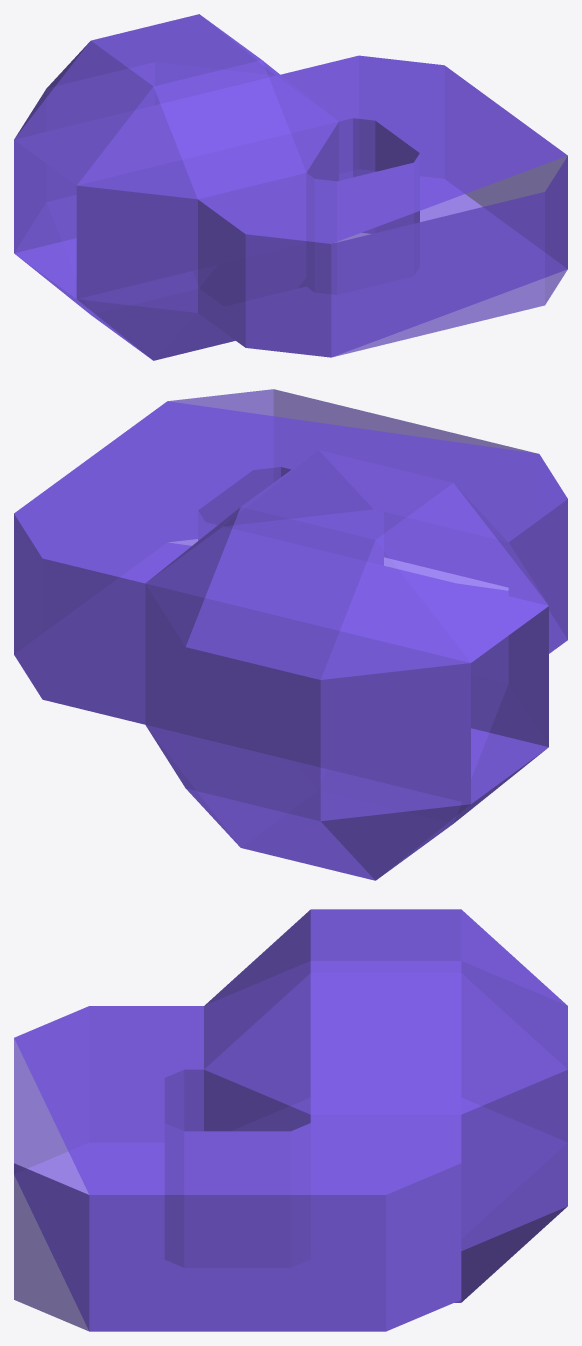
Rendered from Rhombicuboctahedron.obj.
3 views of the same model, one above another, from view 1: azimuth 30°, elevation 25°; view 2: azimuth 150°, elevation 25°; view 3: azimuth 270°, elevation 25° (orthographic). The views are drawn at different scales.
Bounding box in the file's own units: 4.22 × 2.77 × 4.22.
